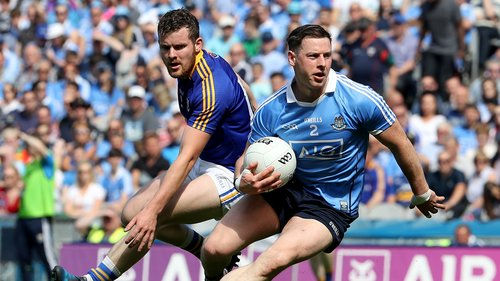ball: (240, 133, 298, 192)
player: (242, 20, 399, 272), (148, 11, 256, 274)
